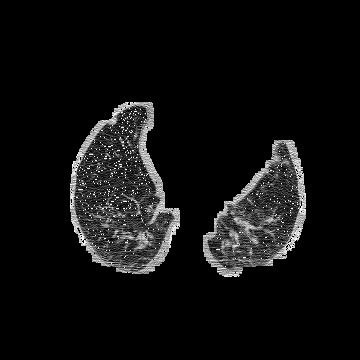PN: (109, 117, 117, 125)
